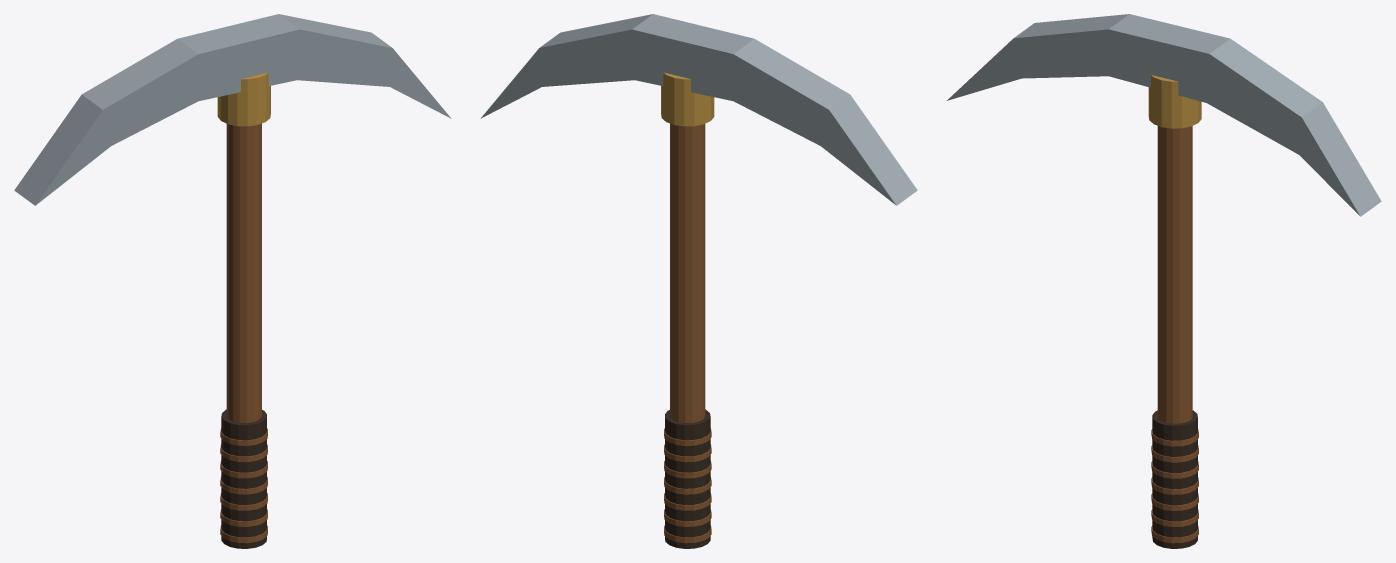
File: mining-pickaxe.glb
3 views of the same model, side by side, from view 1: azimuth 30°, elevation 25°; view 2: azimuth 150°, elevation 25°; view 3: azimuth 330°, elevation 25° (orthographic).
Visible parts, largest first — view 1: Pickaxe steel head.001, Pickaxe handle.001, Pickaxe grip.001, Brass ferrule.001; view 2: Pickaxe steel head.001, Pickaxe handle.001, Pickaxe grip.001, Brass ferrule.001; view 3: Pickaxe steel head.001, Pickaxe handle.001, Pickaxe grip.001, Brass ferrule.001.
Part boxes in pixels (bbox=[...]): Pickaxe steel head.001: bbox=[14, 14, 451, 205]; Pickaxe handle.001: bbox=[226, 123, 261, 422]; Pickaxe grip.001: bbox=[221, 409, 266, 548]; Brass ferrule.001: bbox=[217, 72, 270, 126]; Pickaxe steel head.001: bbox=[480, 14, 917, 205]; Pickaxe handle.001: bbox=[670, 123, 705, 422]; Pickaxe grip.001: bbox=[665, 409, 710, 548]; Brass ferrule.001: bbox=[661, 72, 714, 126]; Pickaxe steel head.001: bbox=[947, 14, 1381, 216]; Pickaxe handle.001: bbox=[1157, 126, 1192, 423]; Pickaxe grip.001: bbox=[1152, 410, 1197, 548]; Brass ferrule.001: bbox=[1148, 75, 1201, 128].
Size of the model in its own units: 1.48 by 1.72 by 0.166.
